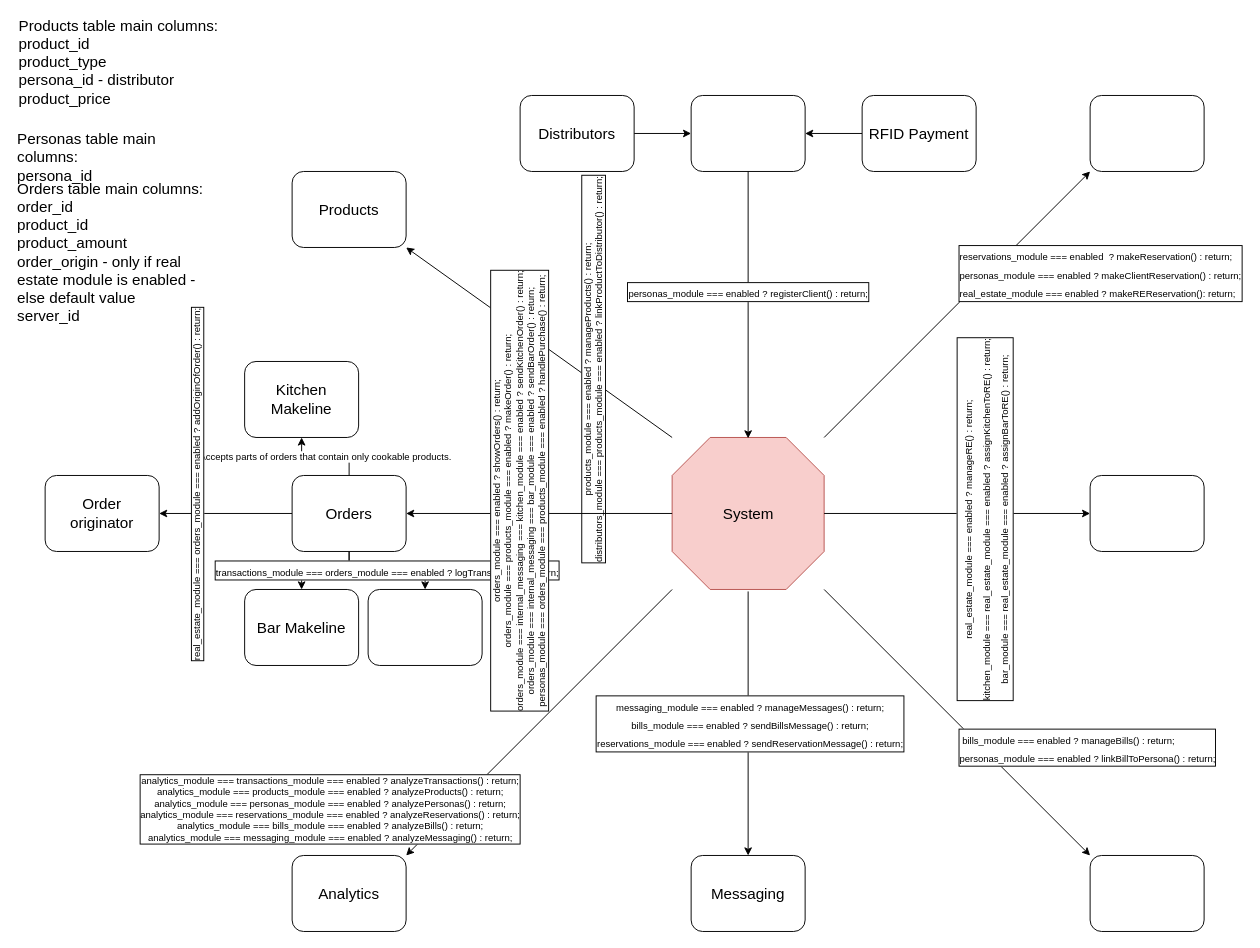
This 1260x948 diagram has some shape labels left out. Each missing label, with the centre of its shape:
Bills: (x=1146, y=893)
Personas: (x=747, y=133)
Real Estate: (x=1146, y=513)
Reservations: (x=1146, y=133)
Transaction Log: (x=424, y=627)
